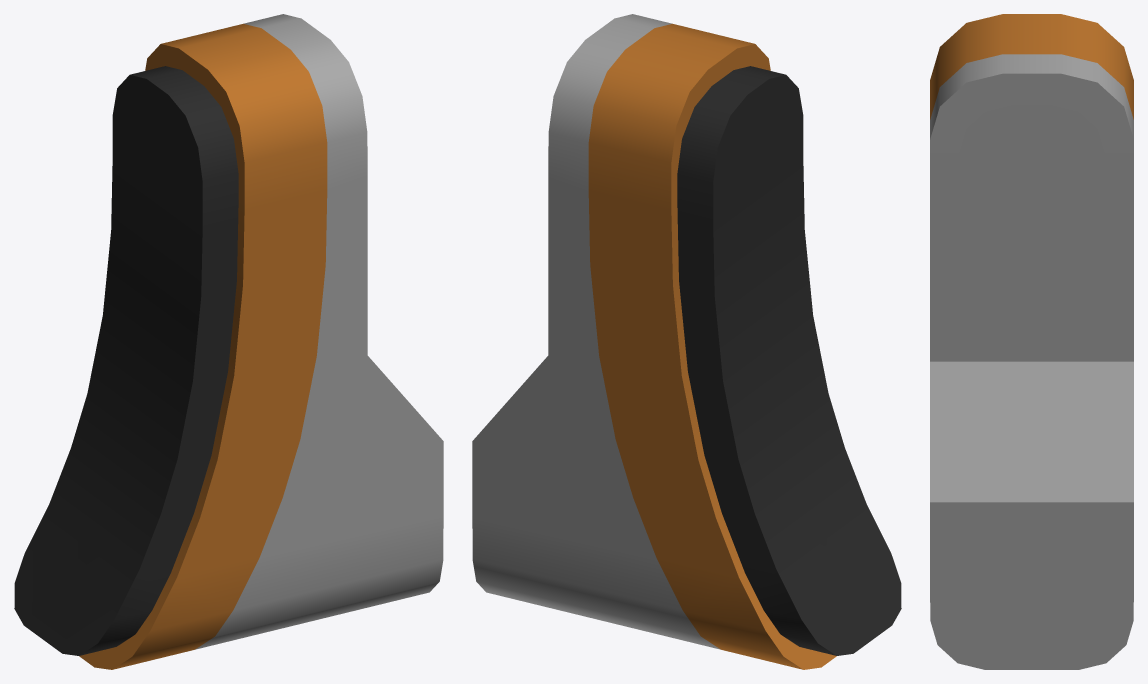
Rendered from Stock_Sniper_1.glb.
3 views of the same model, side by side, from view 1: azimuth 30°, elevation 25°; view 2: azimuth 150°, elevation 25°; view 3: azimuth 270°, elevation 25° (orthographic).
Parts seen in each view (by area): view 1: Stock_Sniper_1; view 2: Stock_Sniper_1; view 3: Stock_Sniper_1.
Part boxes in pixels (x1,y1,x2,y2): Stock_Sniper_1: (14, 14, 443, 669); Stock_Sniper_1: (472, 14, 901, 669); Stock_Sniper_1: (930, 14, 1133, 669).
Size of the model in its own units: 0.1795 by 0.2756 by 0.091.
